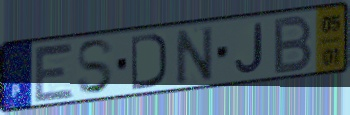B: (271, 13, 315, 77)
D: (129, 31, 169, 92)
E: (32, 42, 76, 104)
J: (233, 21, 265, 75)
N: (173, 24, 215, 88)
S: (74, 37, 116, 97)
